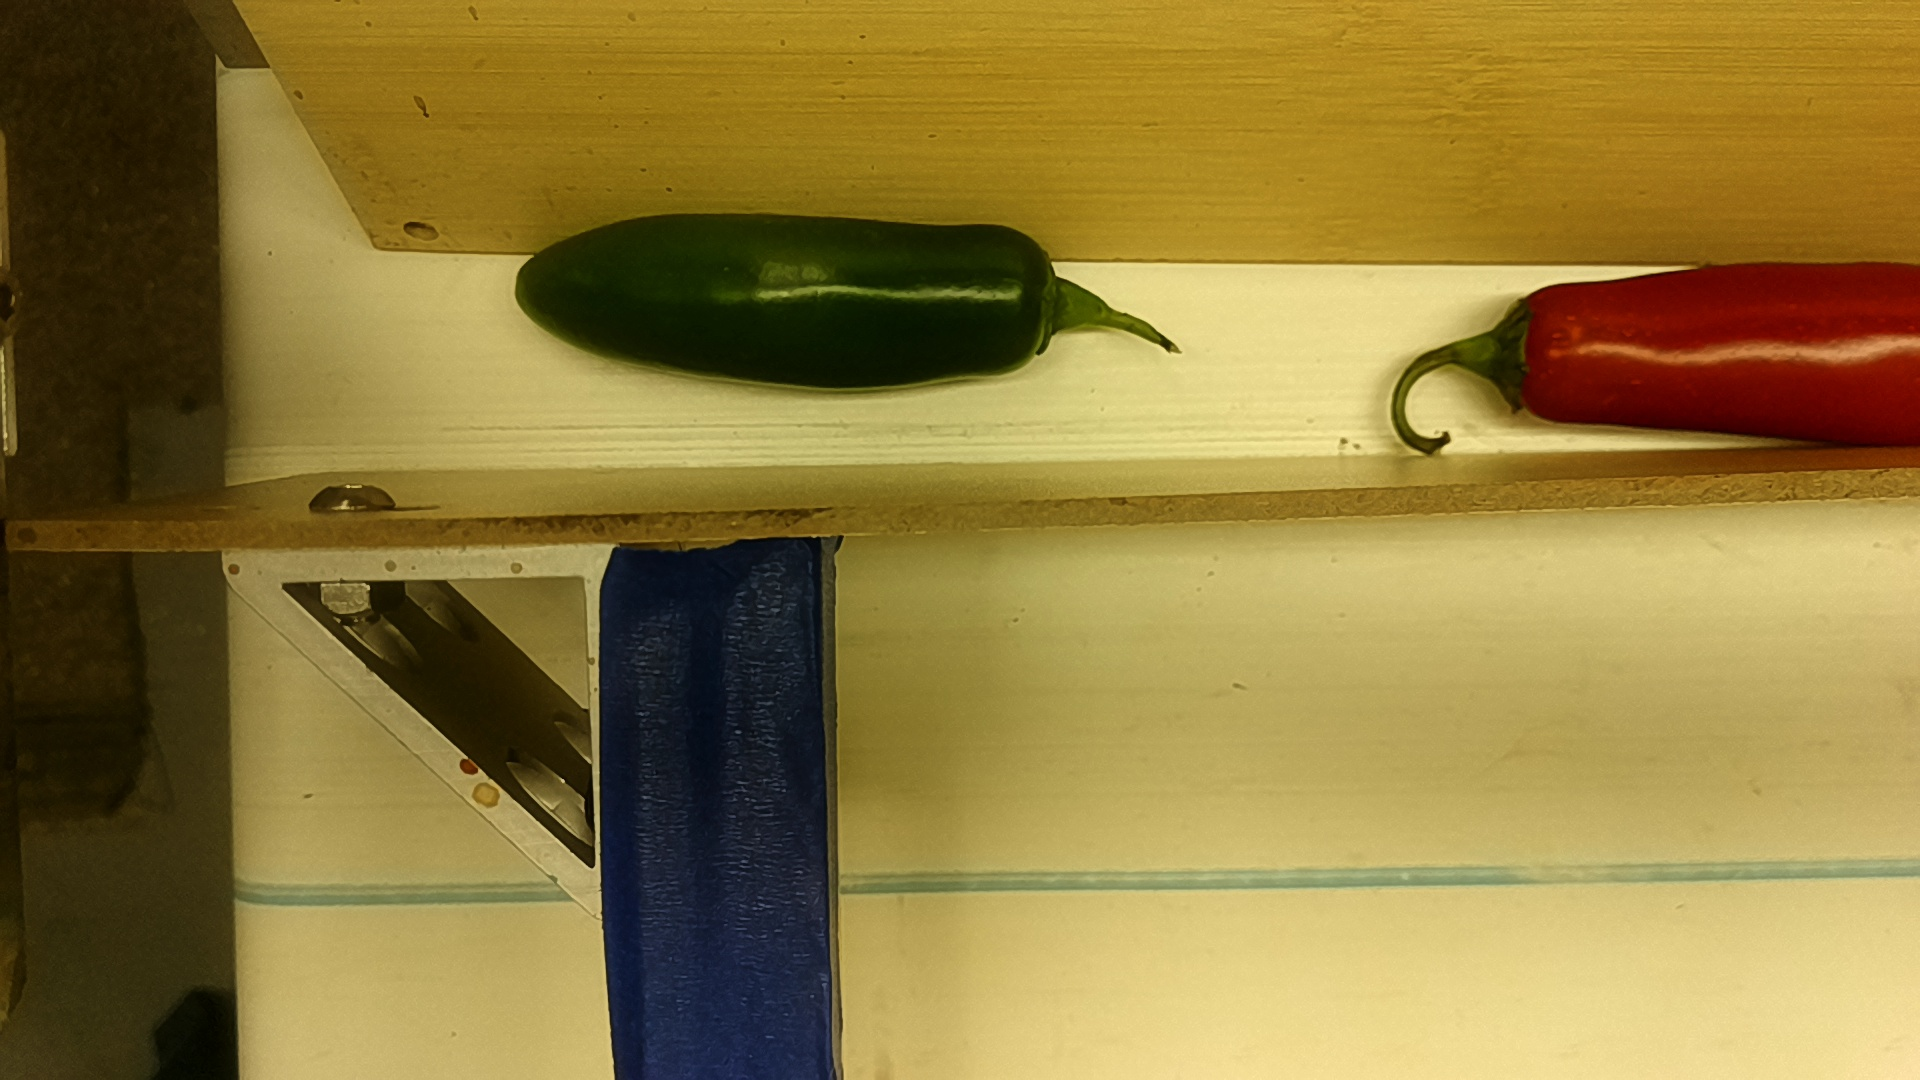Cut Point: (1487, 274, 1567, 431), (1004, 218, 1076, 375)
